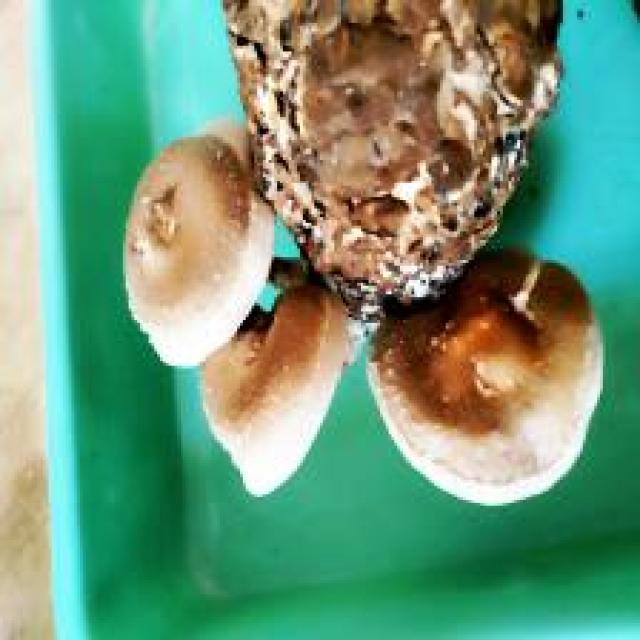field-mushroom: (211, 0, 563, 320), (363, 243, 603, 506)
